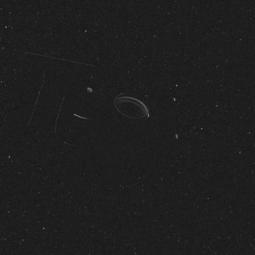proba_3_csc: (6, 60, 173, 159)
